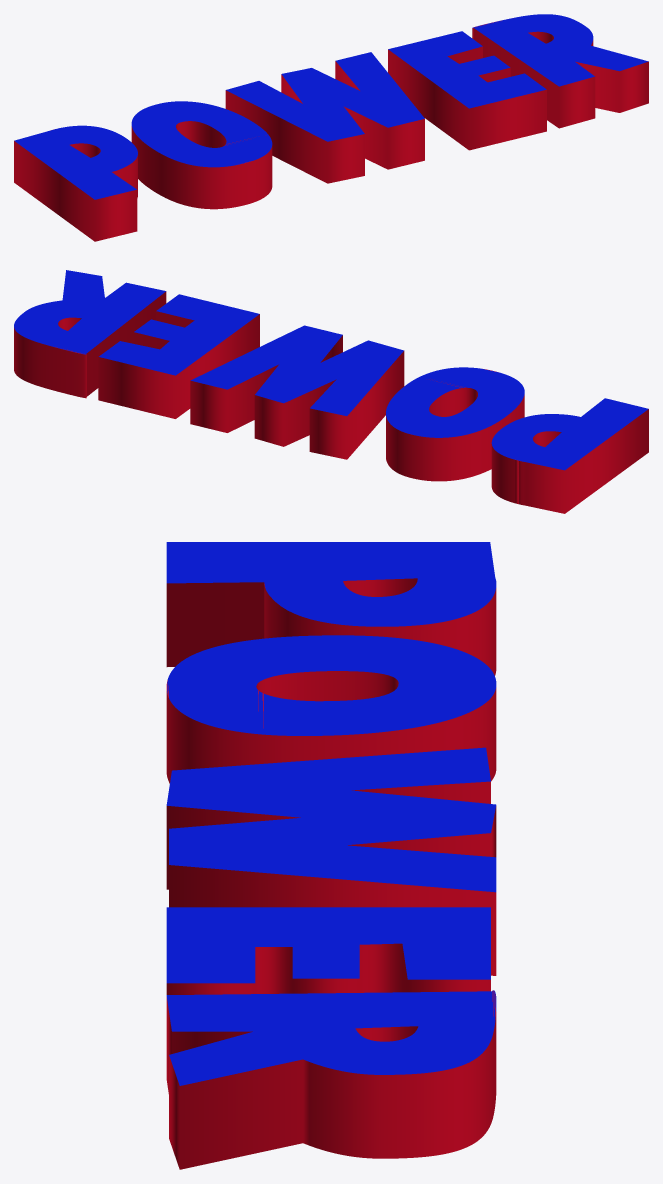
The model's file is textdominicanpower2.fbx.
3 renders of one model, top to bottom at view 1: azimuth 30°, elevation 25°; view 2: azimuth 150°, elevation 25°; view 3: azimuth 270°, elevation 25°, orthographic. The views are drawn at different scales.
Visible parts, largest first — view 1: sd; view 2: sd; view 3: sd.
Boxes of the visible parts, x1,y1,x2,y2 form: sd: [14, 14, 648, 241]; sd: [14, 270, 648, 513]; sd: [166, 542, 496, 1169].
Size of the model in its own units: 334 by 24 by 85.65.
